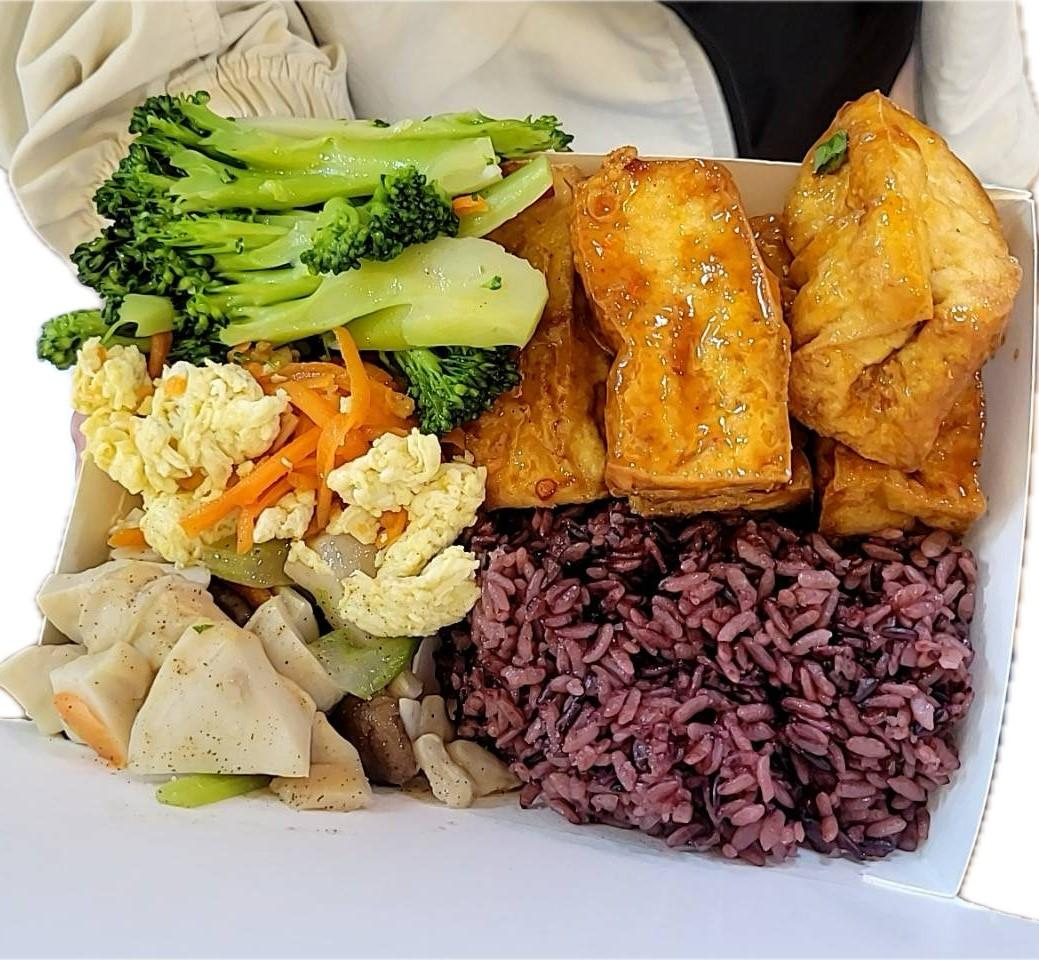big grilled chicken leg: (12, 98, 1039, 935)
braised fish: (449, 508, 988, 869)
braised fish fillet: (455, 98, 1020, 544), (49, 106, 564, 412), (22, 518, 502, 823), (62, 332, 483, 637)
